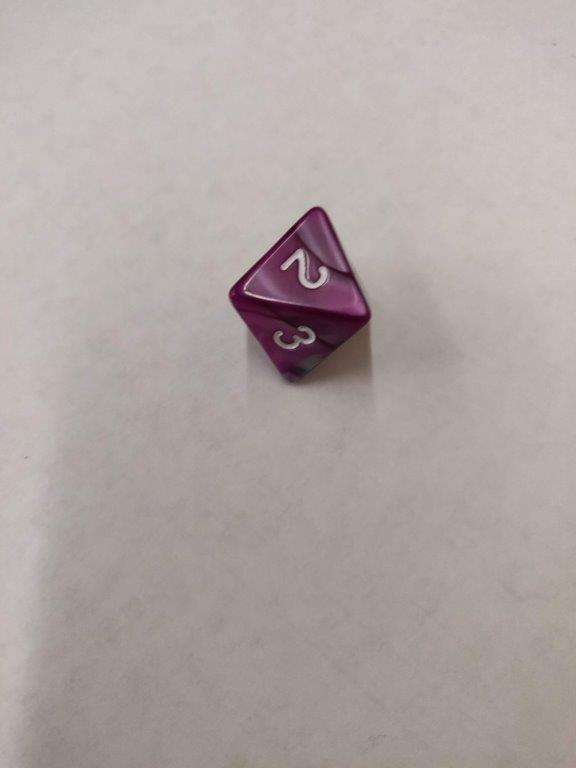d8-2: (228, 205, 372, 387)
